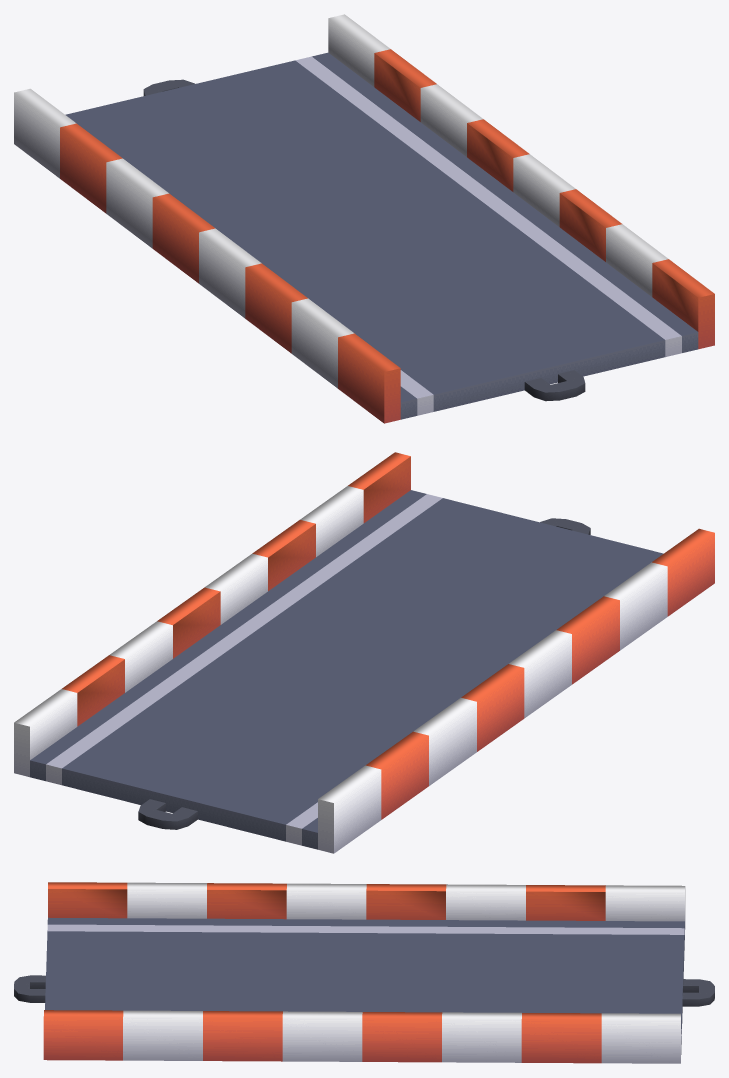
The model's file is track-road-wide-straight.030_lev2.glb.
The picture shows the model from 3 angles, top to bottom: view 1: azimuth 30°, elevation 25°; view 2: azimuth 150°, elevation 25°; view 3: azimuth 270°, elevation 25°; orthographic projection. The views are drawn at different scales.
Parts seen in each view (by area): view 1: track-road-wide-straight.030_lev2; view 2: track-road-wide-straight.030_lev2; view 3: track-road-wide-straight.030_lev2.
Part boxes in pixels (left/top/right/bottom): track-road-wide-straight.030_lev2: left=14, top=14, right=714, bottom=423; track-road-wide-straight.030_lev2: left=14, top=452, right=714, bottom=853; track-road-wide-straight.030_lev2: left=14, top=882, right=714, bottom=1063.
Size of the model in its own units: 2.05 by 0.3 by 4.4.
1 material, 1 textured.
